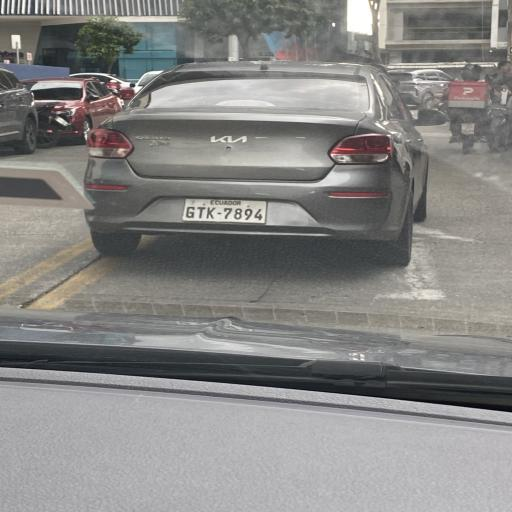license_plate: (195, 204, 206, 220), (185, 206, 196, 221), (205, 206, 216, 220), (223, 206, 233, 221), (244, 208, 254, 221), (234, 207, 243, 221), (254, 208, 263, 222)
